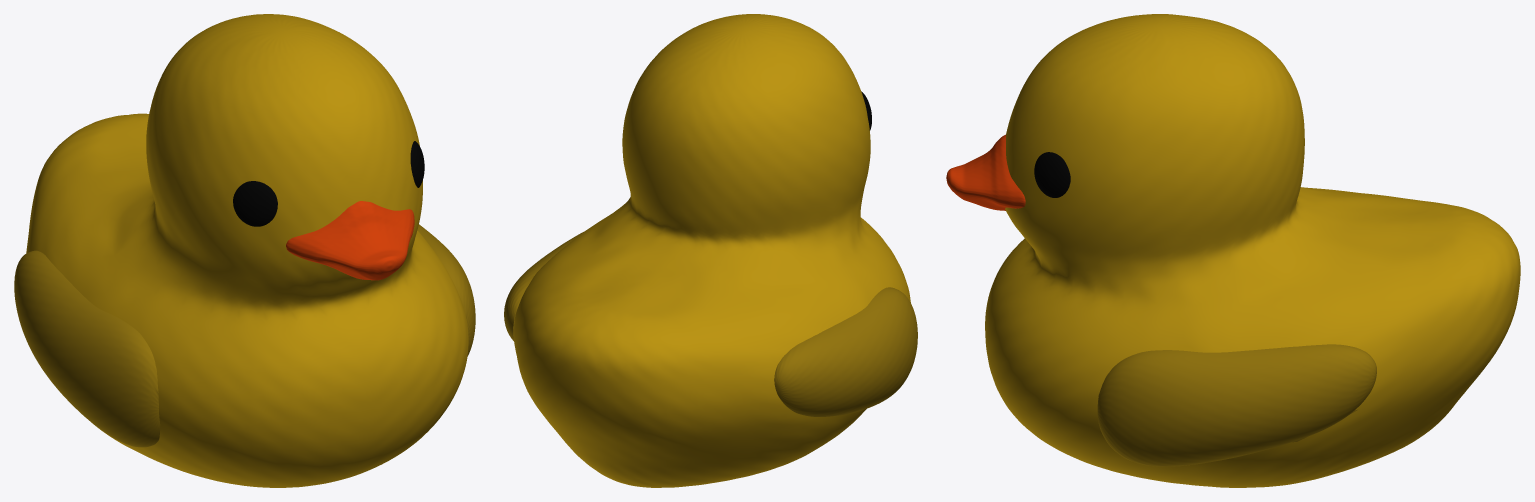
File: DuckModel.obj
3 renders of one model, left to right at view 1: azimuth 30°, elevation 25°; view 2: azimuth 150°, elevation 25°; view 3: azimuth 270°, elevation 25°, orthographic. The views are drawn at different scales.
Visible parts, largest first — view 1: Duck_Duck, Duck_Wings, Duck_Beak, Duck_Eyes; view 2: Duck_Duck, Duck_Wings; view 3: Duck_Duck, Duck_Wings, Duck_Beak, Duck_Eyes.
Part boxes in pixels (box(x1,y1,x2,y2)): Duck_Duck: box(26, 14, 468, 487); Duck_Wings: box(14, 224, 475, 447); Duck_Beak: box(286, 201, 414, 280); Duck_Eyes: box(233, 141, 424, 226); Duck_Duck: box(513, 14, 910, 487); Duck_Wings: box(504, 232, 917, 416); Duck_Duck: box(985, 14, 1520, 487); Duck_Wings: box(1097, 344, 1376, 466); Duck_Beak: box(946, 134, 1025, 210); Duck_Eyes: box(1034, 152, 1070, 197).
Size of the model in its own units: 33.91 by 37.06 by 44.14.
